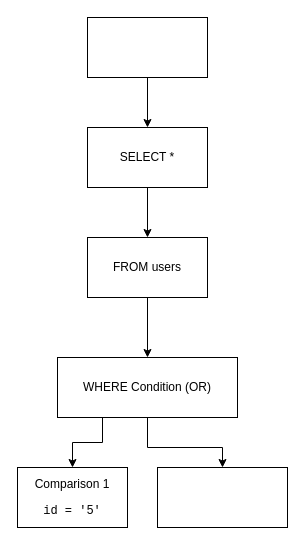
This 305x548 diagram has some shape labels left out. Here are the shapes that lost their labels. From the top down, the box of each, then its label:
(86, 16, 208, 78): Query
(156, 466, 288, 528): Comparison 2 '1' = '1'
